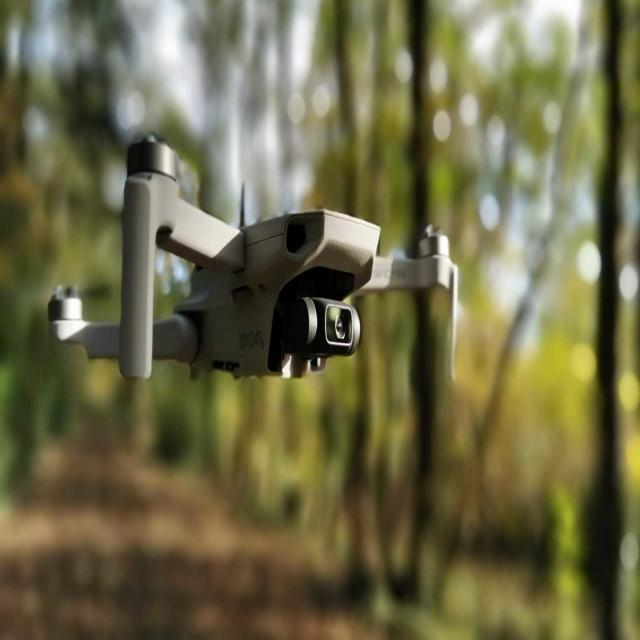drones: (35, 121, 469, 405)
